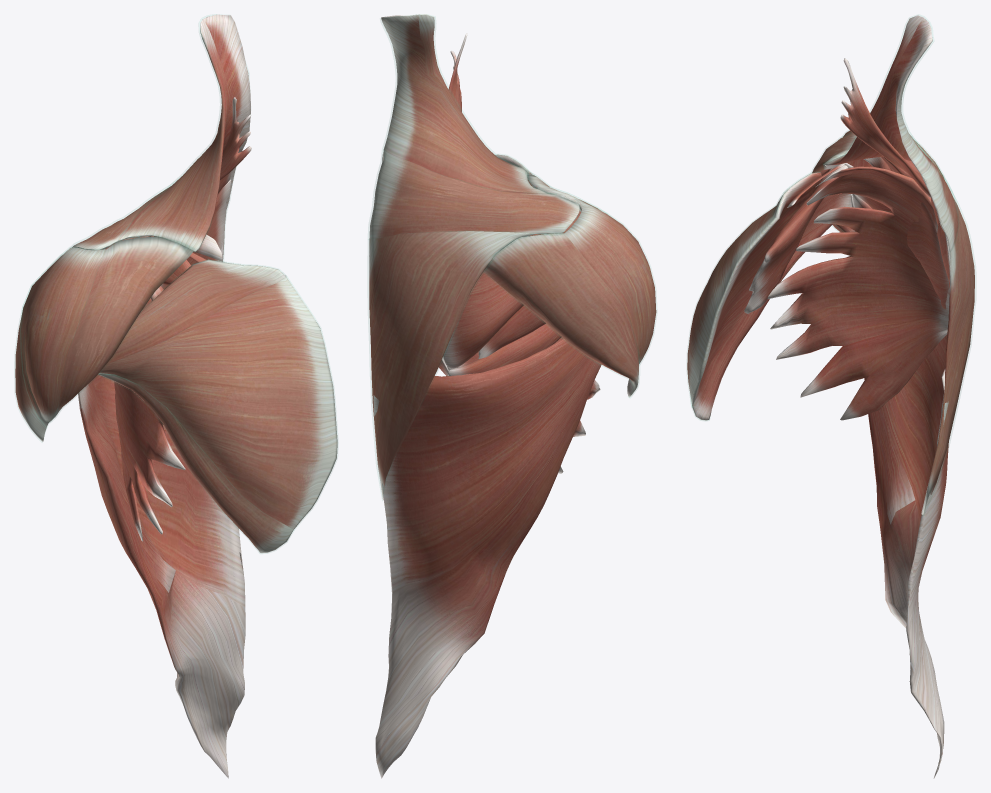
Rendered from shoulder-right.glb.
3 views of the same model, side by side, from view 1: azimuth 30°, elevation 25°; view 2: azimuth 150°, elevation 25°; view 3: azimuth 270°, elevation 25° (orthographic). The views are drawn at different scales.
Parts seen in each view (by area): view 1: Pectoralis major.r, Latissimus dorsi.r, Deltoid muscle.r, Trapezius muscle.r, Serratus anterior muscle.r, Levator scapulae.r, Rhomboid major muscle.r; view 2: Latissimus dorsi.r, Trapezius muscle.r, Deltoid muscle.r, Infraspinatus muscle.r, Teres major muscle.r, Teres minor muscle.r, Levator scapulae.r; view 3: Serratus anterior muscle.r, Latissimus dorsi.r, Trapezius muscle.r, Pectoralis major.r, Pectoralis minor muscle.r, Subscapularis muscle.r, Levator scapulae.r, Deltoid muscle.r.
Boxes of the visible parts, x1=… form: Pectoralis major.r: x1=98, y1=259, x2=337, y2=553; Latissimus dorsi.r: x1=78, y1=374, x2=245, y2=778; Deltoid muscle.r: x1=15, y1=237, x2=193, y2=441; Trapezius muscle.r: x1=71, y1=14, x2=250, y2=261; Serratus anterior muscle.r: x1=114, y1=234, x2=222, y2=541; Levator scapulae.r: x1=220, y1=97, x2=251, y2=180; Rhomboid major muscle.r: x1=161, y1=179, x2=231, y2=289; Latissimus dorsi.r: x1=373, y1=338, x2=601, y2=778; Trapezius muscle.r: x1=369, y1=14, x2=579, y2=499; Deltoid muscle.r: x1=483, y1=172, x2=656, y2=397; Infraspinatus muscle.r: x1=443, y1=272, x2=523, y2=368; Teres major muscle.r: x1=447, y1=323, x2=561, y2=376; Teres minor muscle.r: x1=478, y1=305, x2=545, y2=358; Levator scapulae.r: x1=448, y1=33, x2=467, y2=111; Serratus anterior muscle.r: x1=767, y1=166, x2=949, y2=420; Latissimus dorsi.r: x1=850, y1=194, x2=948, y2=778; Trapezius muscle.r: x1=824, y1=15, x2=974, y2=514; Pectoralis major.r: x1=687, y1=172, x2=851, y2=420; Pectoralis minor muscle.r: x1=744, y1=165, x2=847, y2=313; Subscapularis muscle.r: x1=844, y1=163, x2=949, y2=309; Levator scapulae.r: x1=840, y1=58, x2=930, y2=197; Deltoid muscle.r: x1=812, y1=130, x2=944, y2=232.
Bounding box in the file's own units: 0.2347 × 0.7116 × 0.2506.
4 materials, 3 textured.
